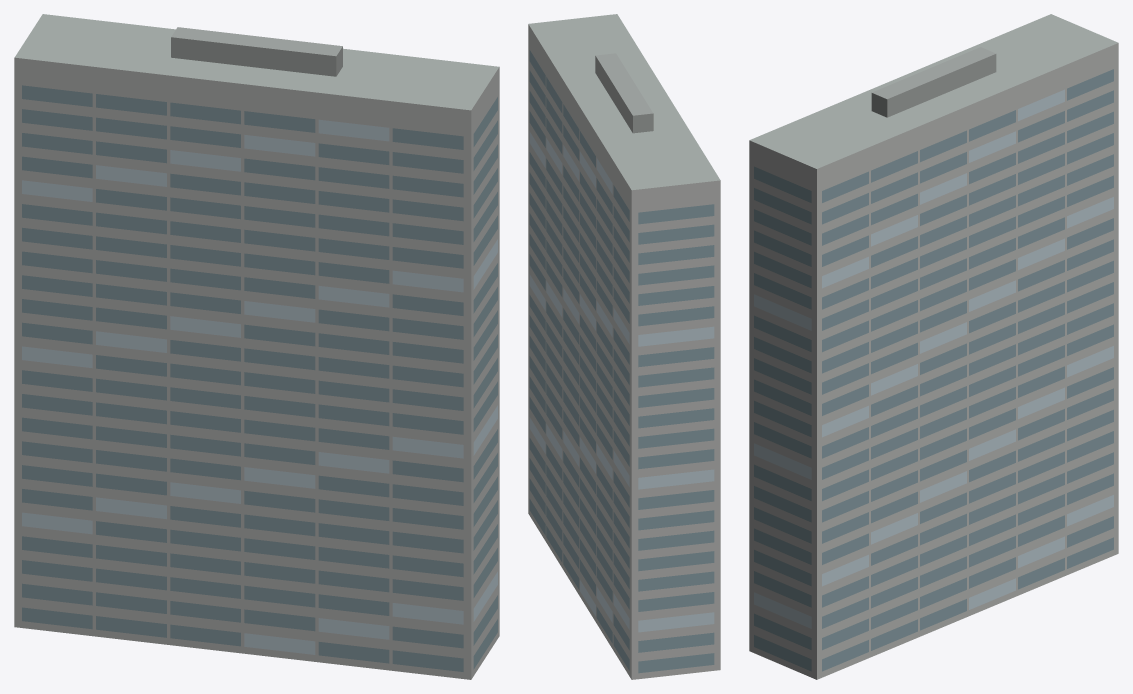
Rendered from fallback-dmc-parkview-xi-extension-130.glb.
The picture shows the model from 3 angles, left to right: view 1: azimuth 30°, elevation 25°; view 2: azimuth 150°, elevation 25°; view 3: azimuth 270°, elevation 25°; orthographic projection. The views are drawn at different scales.
Visible parts, largest first — view 1: fallback-dmc-parkview-xi-extension-130; view 2: fallback-dmc-parkview-xi-extension-130; view 3: fallback-dmc-parkview-xi-extension-130.
Boxes of the visible parts, bbox=[...] form: fallback-dmc-parkview-xi-extension-130: bbox=[14, 14, 499, 679]; fallback-dmc-parkview-xi-extension-130: bbox=[528, 14, 720, 679]; fallback-dmc-parkview-xi-extension-130: bbox=[749, 14, 1118, 679].
Size of the model in its own units: 43.37 by 69 by 43.65.
